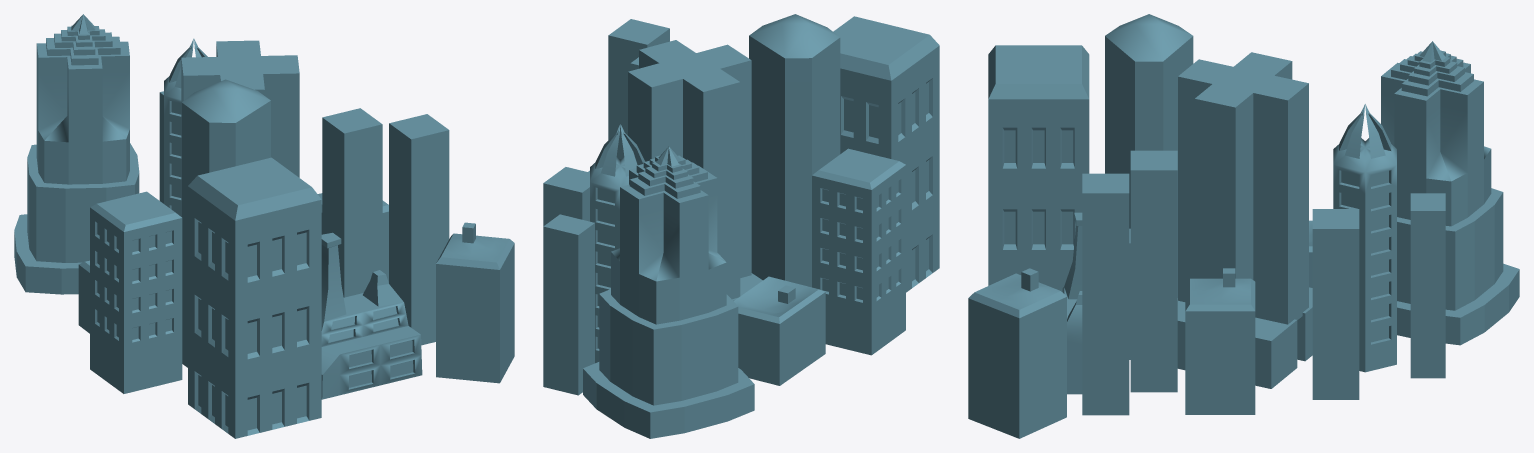
File: skyscrape.fbx
3 views of the same model, side by side, from view 1: azimuth 30°, elevation 25°; view 2: azimuth 150°, elevation 25°; view 3: azimuth 270°, elevation 25° (orthographic). The views are drawn at different scales.
Parts seen in each view (by area): view 1: apt7; view 2: apt7; view 3: apt7.
Part boxes in pixels (bbox=[...]): apt7: bbox=[14, 14, 514, 438]; apt7: bbox=[543, 14, 939, 438]; apt7: bbox=[968, 14, 1519, 438].
Bounding box in the file's own units: 1.9 × 1.54 × 2.55.
